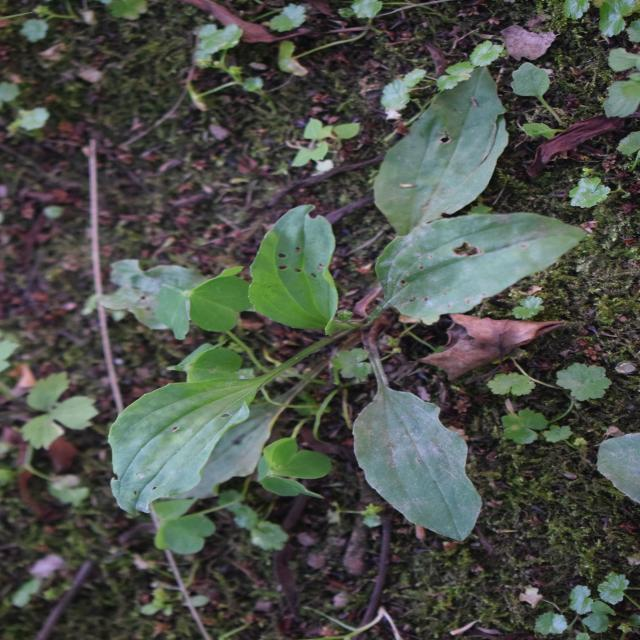plantain: (122, 89, 536, 520)
